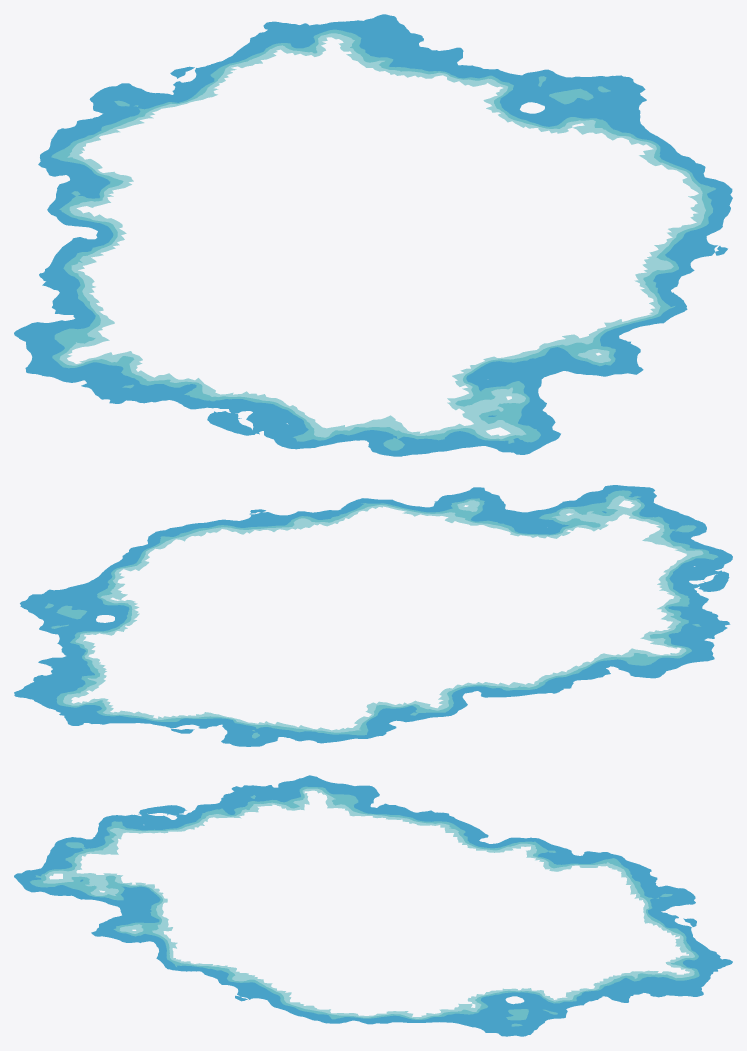
The model's file is Isl-bot4-Water.fbx.
The picture shows the model from 3 angles, top to bottom: view 1: azimuth 30°, elevation 25°; view 2: azimuth 150°, elevation 25°; view 3: azimuth 270°, elevation 25°; orthographic projection. The views are drawn at different scales.
Parts seen in each view (by area): view 1: Isl-bot4-Water; view 2: Isl-bot4-Water; view 3: Isl-bot4-Water.
Boxes of the visible parts, x1,y1,x2,y2 form: Isl-bot4-Water: (14, 14, 732, 456); Isl-bot4-Water: (14, 485, 732, 746); Isl-bot4-Water: (14, 775, 732, 1036).
Size of the model in its own units: 136 by 0 by 158.
